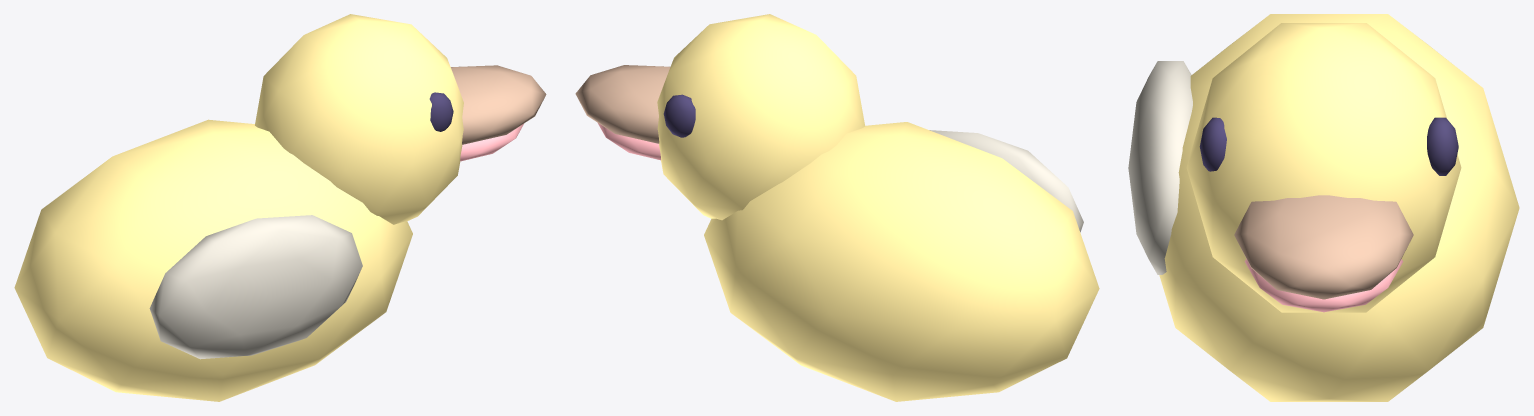
Rendered from pearl_bath_duck.glb.
3 renders of one model, left to right at view 1: azimuth 30°, elevation 25°; view 2: azimuth 150°, elevation 25°; view 3: azimuth 270°, elevation 25°, orthographic. The views are drawn at different scales.
Parts seen in each view (by area): view 1: pearl_bath_duck.001; view 2: pearl_bath_duck.001; view 3: pearl_bath_duck.001.
Boxes of the visible parts, x1,y1,x2,y2 form: pearl_bath_duck.001: [14, 14, 546, 401]; pearl_bath_duck.001: [575, 14, 1099, 401]; pearl_bath_duck.001: [1128, 14, 1519, 401].
Size of the model in its own units: 2.88 by 1.84 by 1.48.
